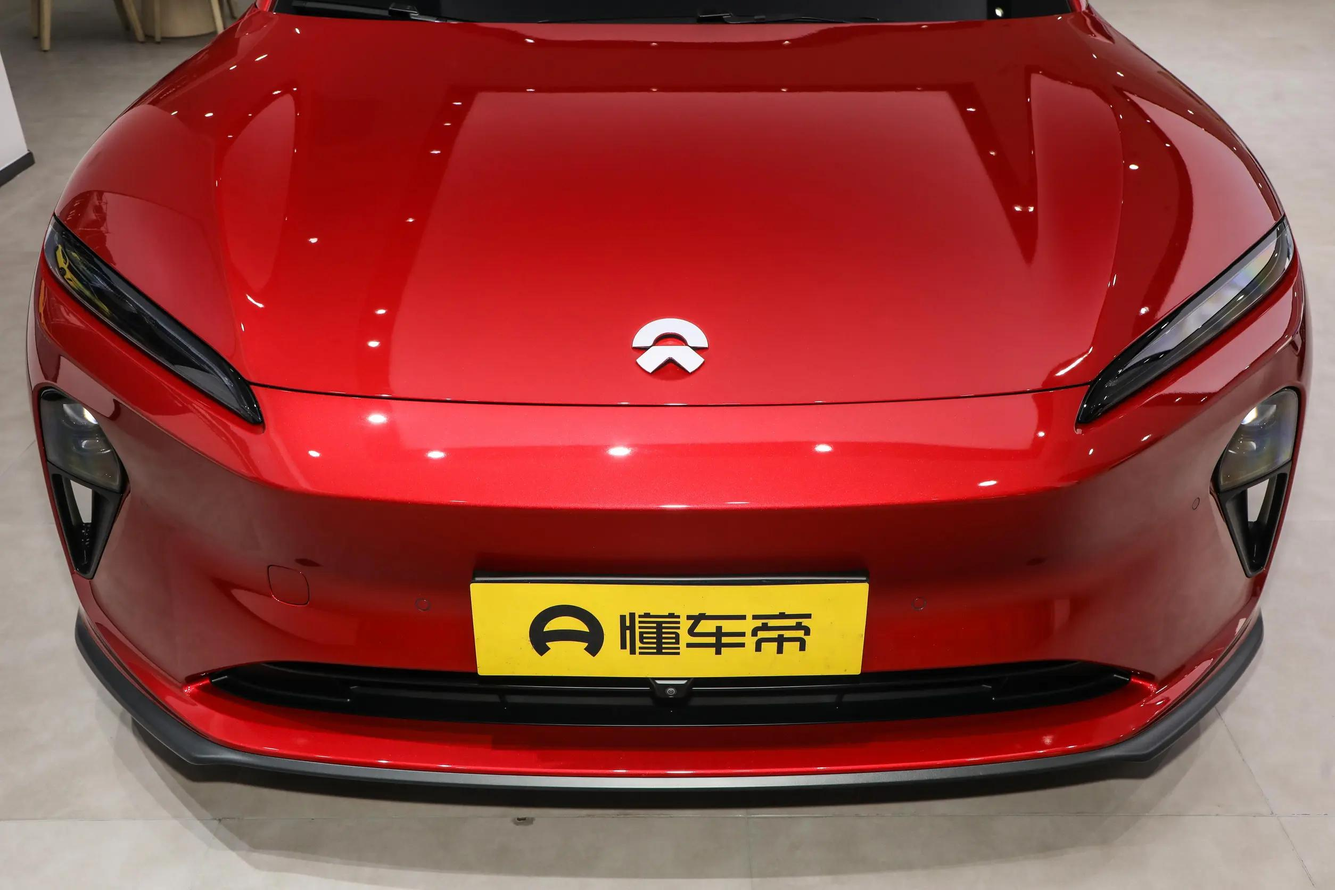NIO: (631, 317, 708, 374)
